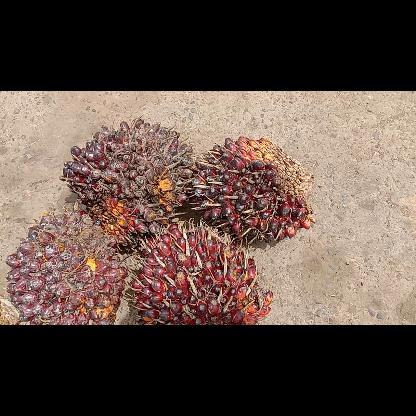Kurang masak: (58, 115, 196, 251), (126, 216, 274, 324)
TBS mentah: (6, 208, 128, 324), (188, 134, 316, 244)
